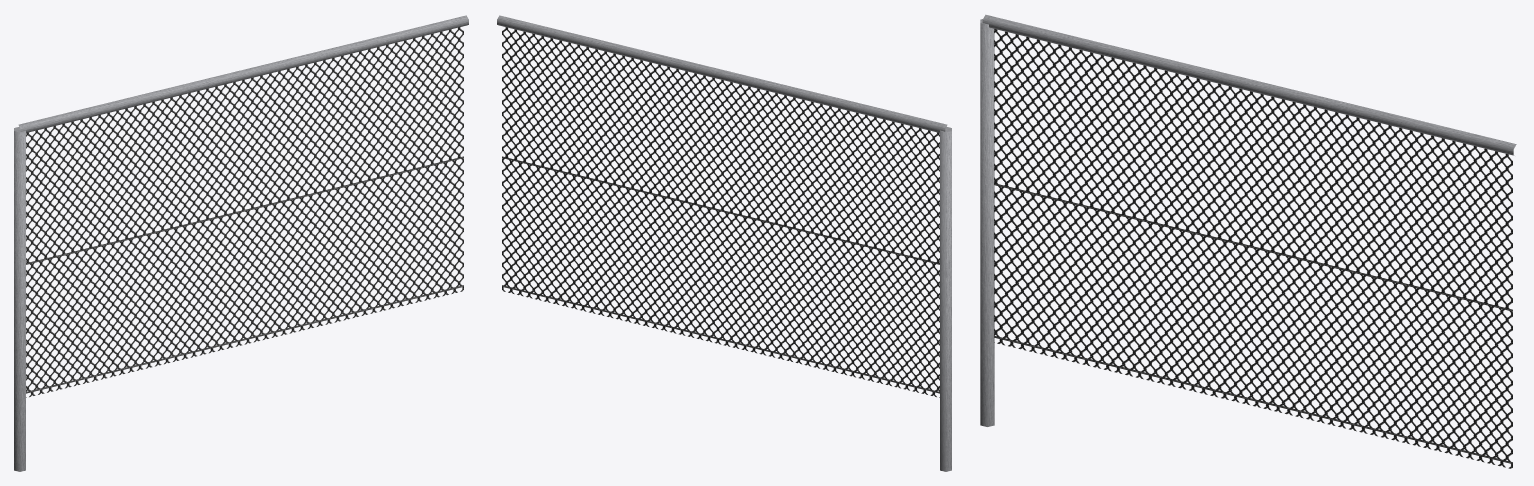
Rendered from fence-tall-chainlink-1rail-1s-cbj_LOD01.gltf.
3 renders of one model, left to right at view 1: azimuth 30°, elevation 25°; view 2: azimuth 150°, elevation 25°; view 3: azimuth 330°, elevation 25°, orthographic. The views are drawn at different scales.
Visible parts, largest first — view 1: cube01; view 2: cube01; view 3: cube01.
Boxes of the visible parts, bbox=[...] form: cube01: bbox=[14, 15, 468, 471]; cube01: bbox=[497, 15, 951, 471]; cube01: bbox=[980, 14, 1516, 468].
Size of the model in its own units: 3.14 by 2.3 by 0.0727.
